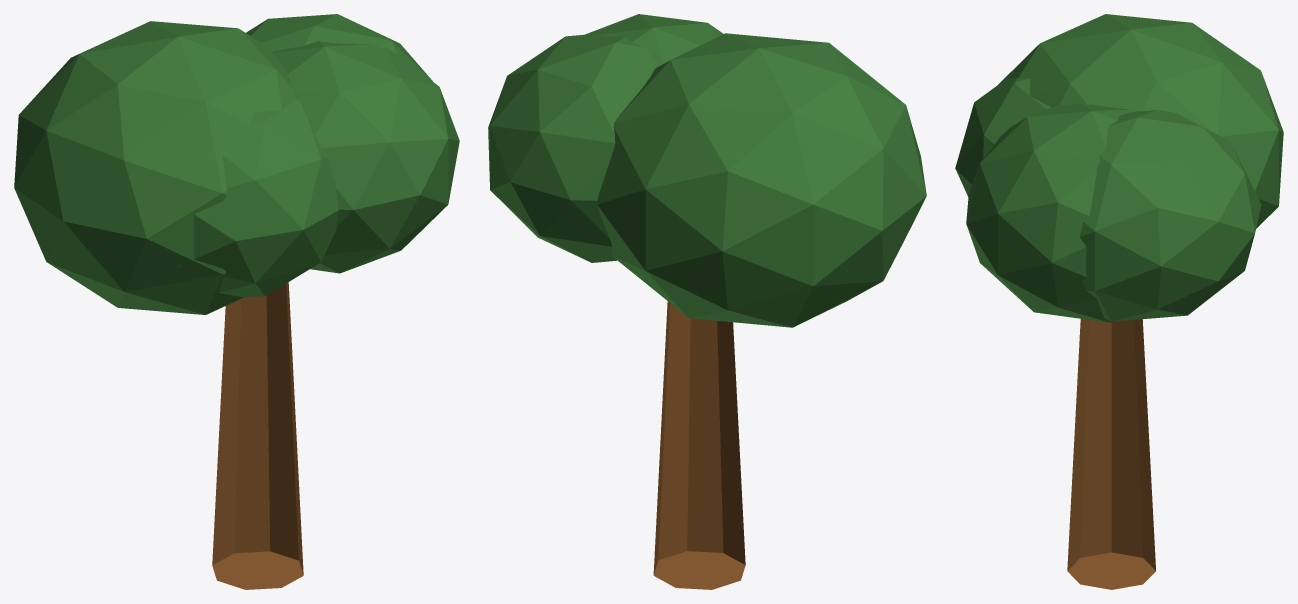
File: tree_round_01.glb
3 views of the same model, side by side, from view 1: azimuth 30°, elevation 25°; view 2: azimuth 150°, elevation 25°; view 3: azimuth 270°, elevation 25° (orthographic). The views are drawn at different scales.
Parts seen in each view (by area): view 1: tree_round_01; view 2: tree_round_01; view 3: tree_round_01.
Boxes of the visible parts, box(x1,y1,x2,y2) form: tree_round_01: box(14, 14, 459, 589); tree_round_01: box(488, 14, 926, 589); tree_round_01: box(955, 14, 1283, 589).
Size of the model in its own units: 1.93 by 2.53 by 1.48.
